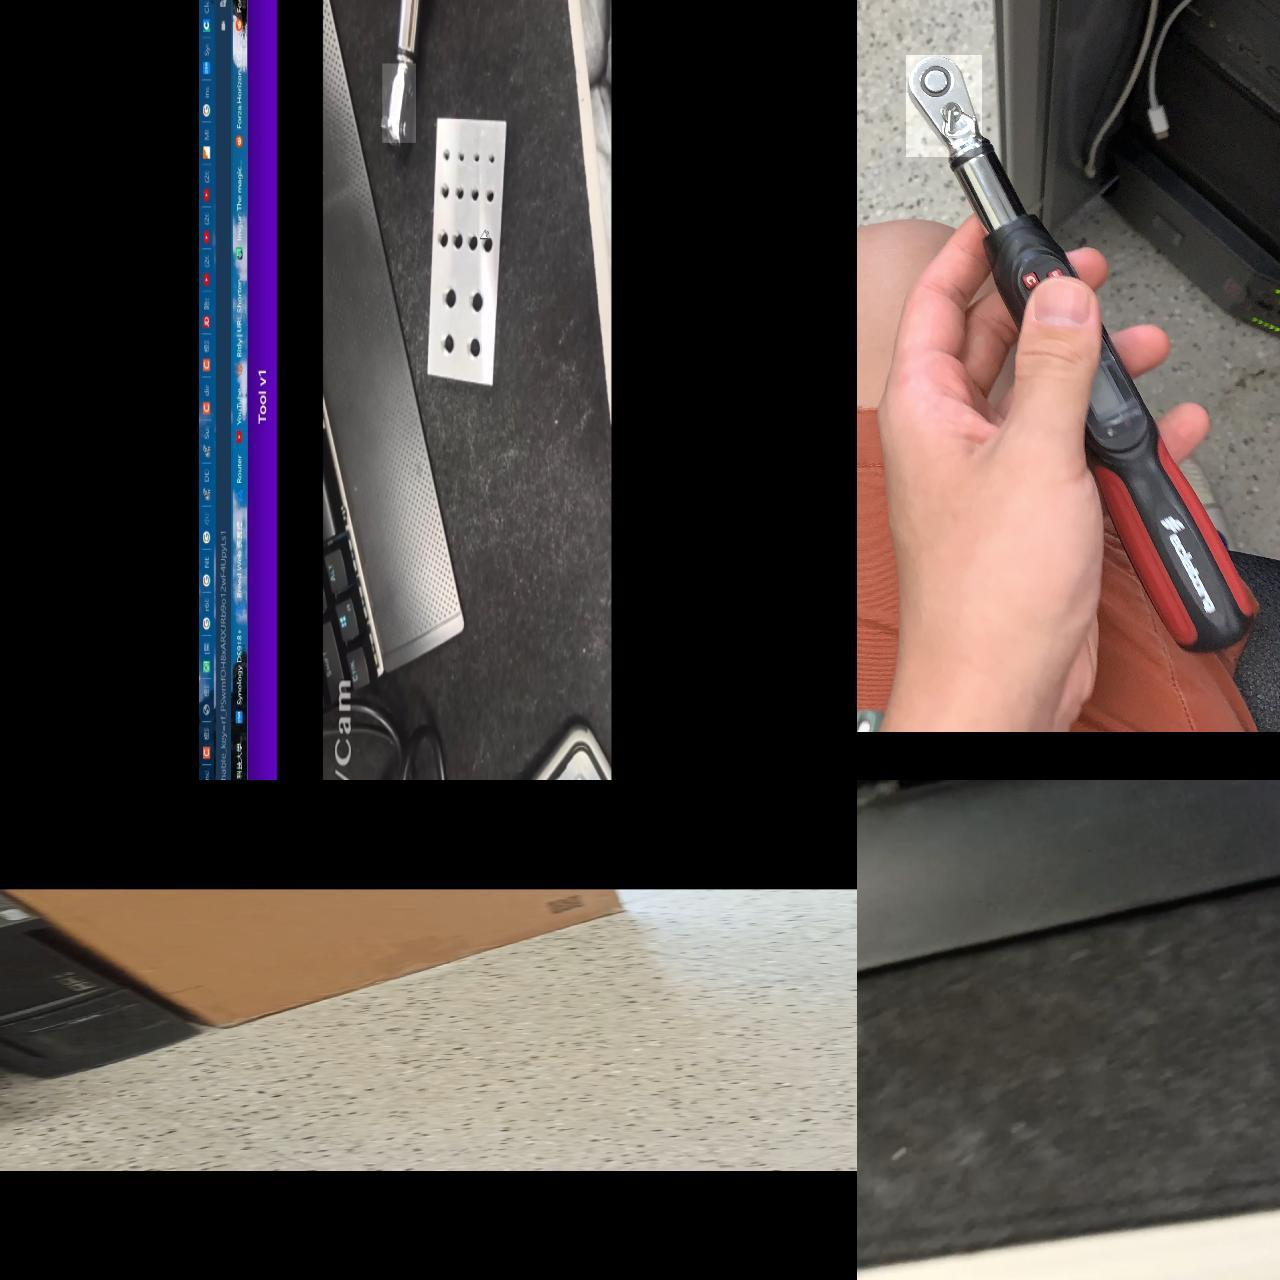Tool: (905, 55, 981, 157), (382, 63, 415, 143)
